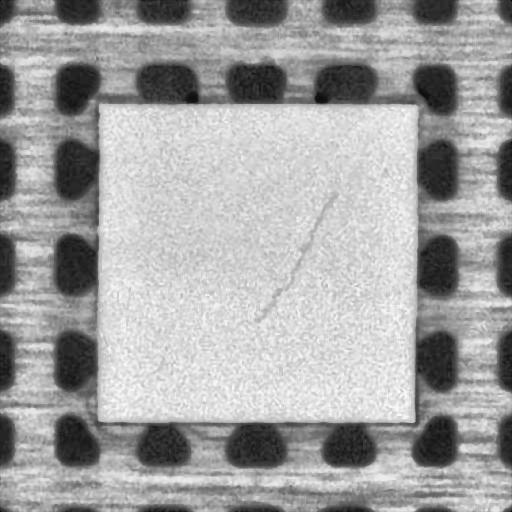DIE_CRACK: (252, 192, 337, 321)
